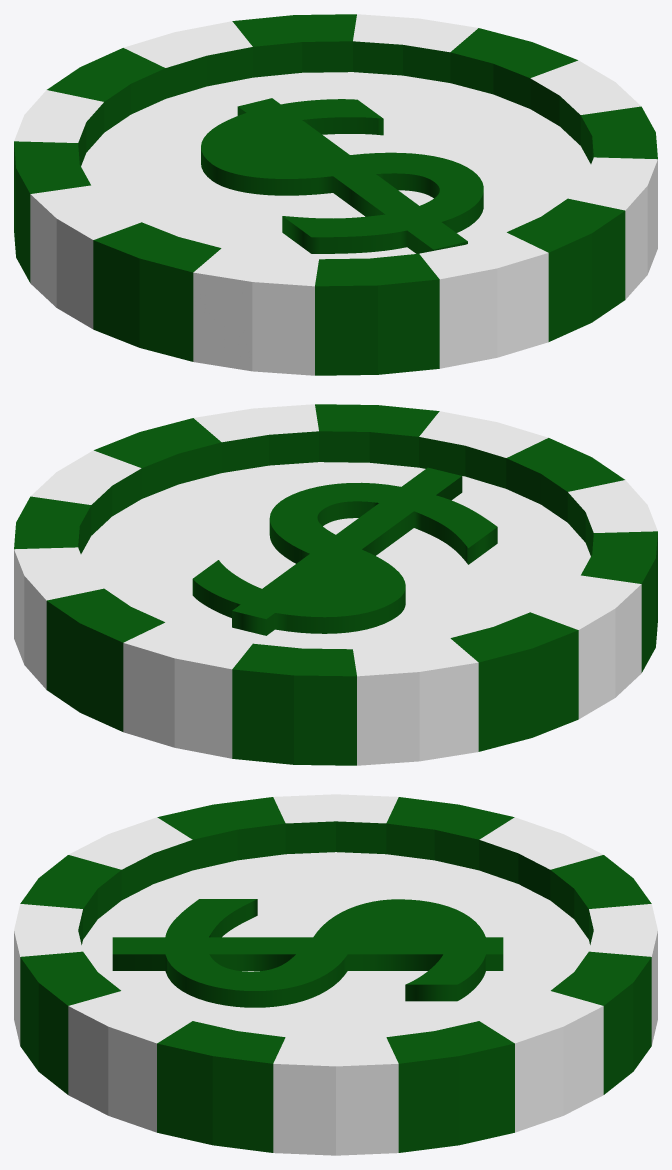
Rendered from zeton.fbx.
3 renders of one model, top to bottom at view 1: azimuth 30°, elevation 25°; view 2: azimuth 150°, elevation 25°; view 3: azimuth 270°, elevation 25°, orthographic.
Visible parts, largest first — view 1: ZETON, NOMINAL_G; view 2: ZETON, NOMINAL_G; view 3: ZETON, NOMINAL_G.
Part boxes in pixels (x1,y1,x2,y2): ZETON: (14,14,657,375); NOMINAL_G: (201,98,483,253); ZETON: (14,404,657,765); NOMINAL_G: (192,467,497,635); ZETON: (14,794,657,1155); NOMINAL_G: (112,899,503,1007).
Bounding box in the file's own units: 200 × 30.58 × 200.
